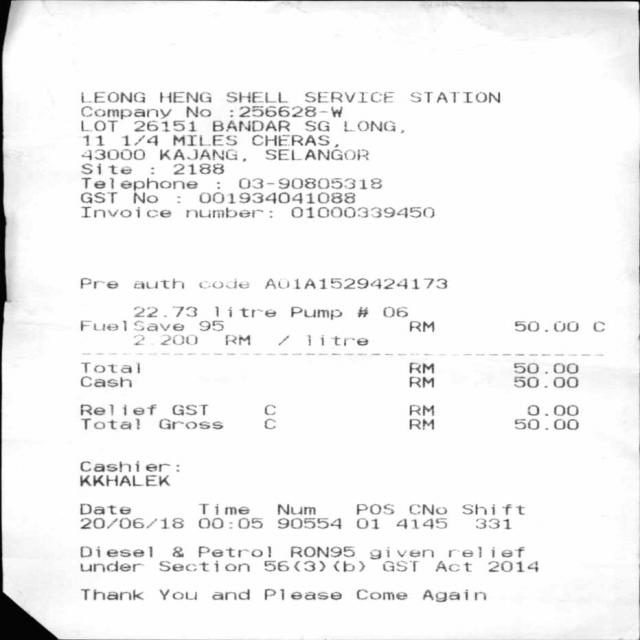text: (198, 191, 353, 203), (264, 278, 446, 288), (291, 206, 434, 217), (80, 177, 196, 190), (238, 178, 380, 188), (228, 105, 340, 116), (264, 148, 366, 160), (81, 105, 170, 118), (80, 517, 182, 528), (263, 560, 364, 571), (79, 460, 178, 471), (78, 474, 168, 486), (250, 134, 336, 146), (80, 320, 182, 330), (160, 149, 244, 161), (158, 560, 249, 571), (304, 91, 392, 102), (410, 91, 498, 102), (186, 206, 272, 217), (211, 119, 288, 131), (80, 206, 170, 216), (262, 588, 340, 599), (448, 546, 523, 557), (421, 588, 484, 601), (78, 404, 155, 414), (80, 148, 144, 160), (198, 516, 262, 528), (369, 546, 432, 558), (78, 546, 151, 556), (197, 546, 270, 556), (343, 120, 402, 132), (80, 91, 144, 102), (514, 320, 578, 331), (514, 418, 578, 429), (172, 134, 235, 145), (513, 376, 576, 387), (277, 517, 340, 528), (78, 560, 140, 571), (80, 588, 142, 599), (225, 91, 286, 102), (289, 306, 340, 319), (307, 334, 367, 345), (158, 418, 222, 428), (289, 546, 353, 556), (132, 306, 195, 316), (513, 362, 576, 372), (133, 120, 195, 130), (462, 504, 523, 514), (80, 162, 130, 174), (215, 306, 275, 316), (488, 560, 537, 572), (81, 362, 139, 372), (80, 418, 138, 428), (159, 91, 210, 102), (134, 335, 196, 344), (172, 163, 222, 174), (80, 503, 130, 514), (396, 517, 446, 528), (356, 588, 406, 599), (198, 503, 247, 514), (526, 404, 578, 414), (132, 278, 182, 288), (80, 376, 130, 386), (78, 277, 117, 288), (276, 503, 314, 514), (158, 588, 196, 599), (210, 588, 248, 599), (80, 191, 116, 202), (356, 503, 392, 514), (435, 560, 470, 571), (408, 504, 446, 514), (122, 134, 156, 145), (382, 560, 416, 571), (80, 120, 116, 130), (474, 518, 510, 528), (172, 404, 206, 414), (198, 281, 247, 287), (409, 320, 434, 331), (186, 105, 210, 116), (408, 376, 432, 387), (408, 418, 432, 429), (131, 192, 157, 202), (304, 120, 328, 130), (382, 306, 406, 316), (198, 320, 222, 330), (225, 334, 249, 344), (408, 362, 432, 372), (408, 404, 432, 414), (82, 134, 102, 145), (356, 518, 378, 528), (592, 320, 603, 331), (171, 546, 181, 557), (263, 404, 273, 414), (263, 418, 273, 428), (277, 335, 288, 344)
